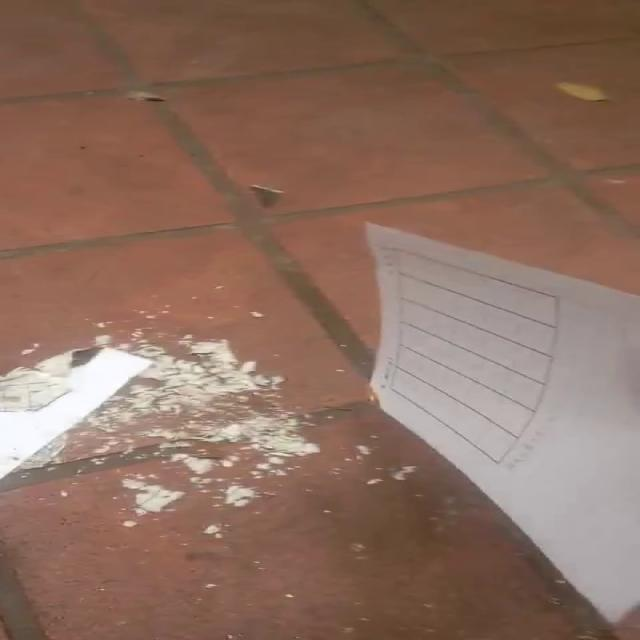Fire_Dangerous: (362, 380, 386, 407)
